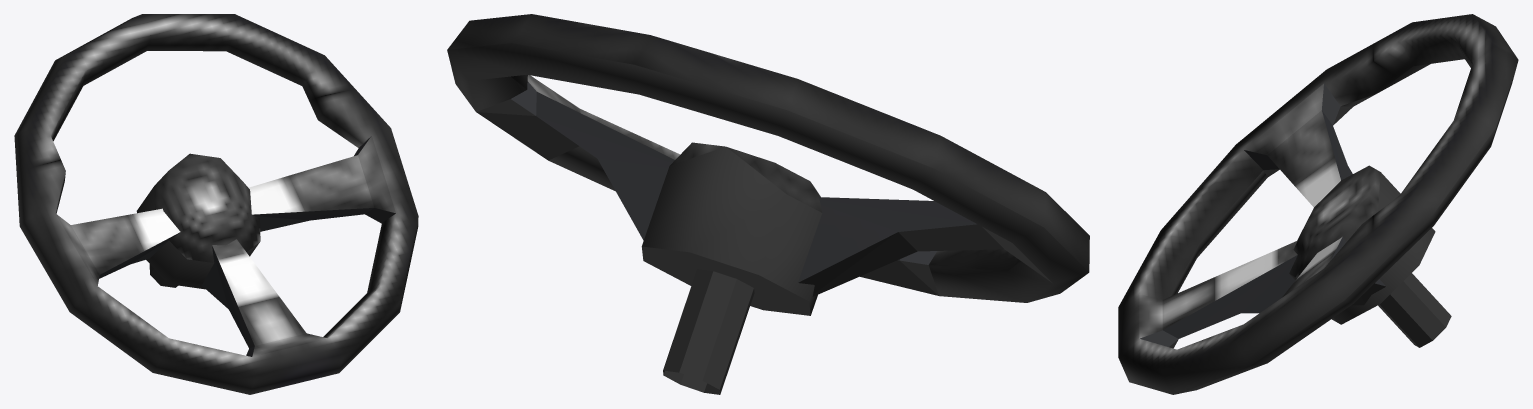
File: polaris_steering_wheel.dae
3 views of the same model, side by side, from view 1: azimuth 30°, elevation 25°; view 2: azimuth 150°, elevation 25°; view 3: azimuth 270°, elevation 25° (orthographic). The views are drawn at different scales.
Parts seen in each view (by area): view 1: Steering_Wheel; view 2: Steering_Wheel; view 3: Steering_Wheel.
Boxes of the visible parts, bbox=[...] form: Steering_Wheel: bbox=[14, 14, 418, 394]; Steering_Wheel: bbox=[447, 14, 1089, 394]; Steering_Wheel: bbox=[1118, 14, 1518, 394].
Bounding box in the file's own units: 13.52 × 10.57 × 9.03.
Materials: 1 (1 with a texture image).
